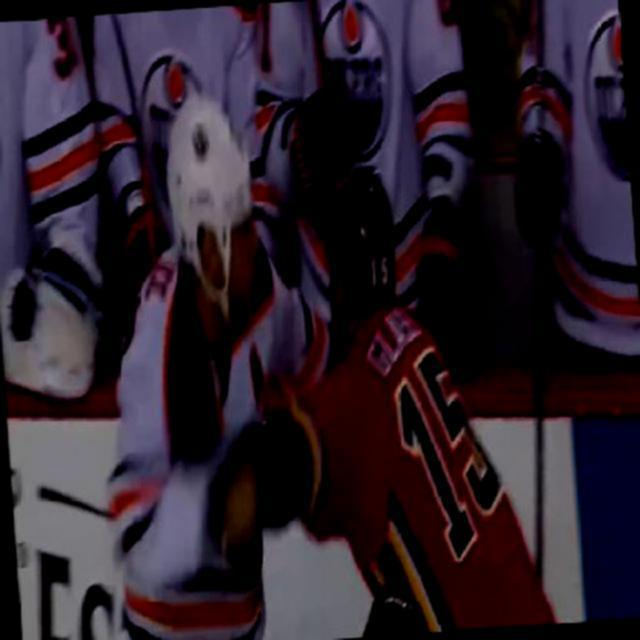fight: (84, 61, 530, 638)
